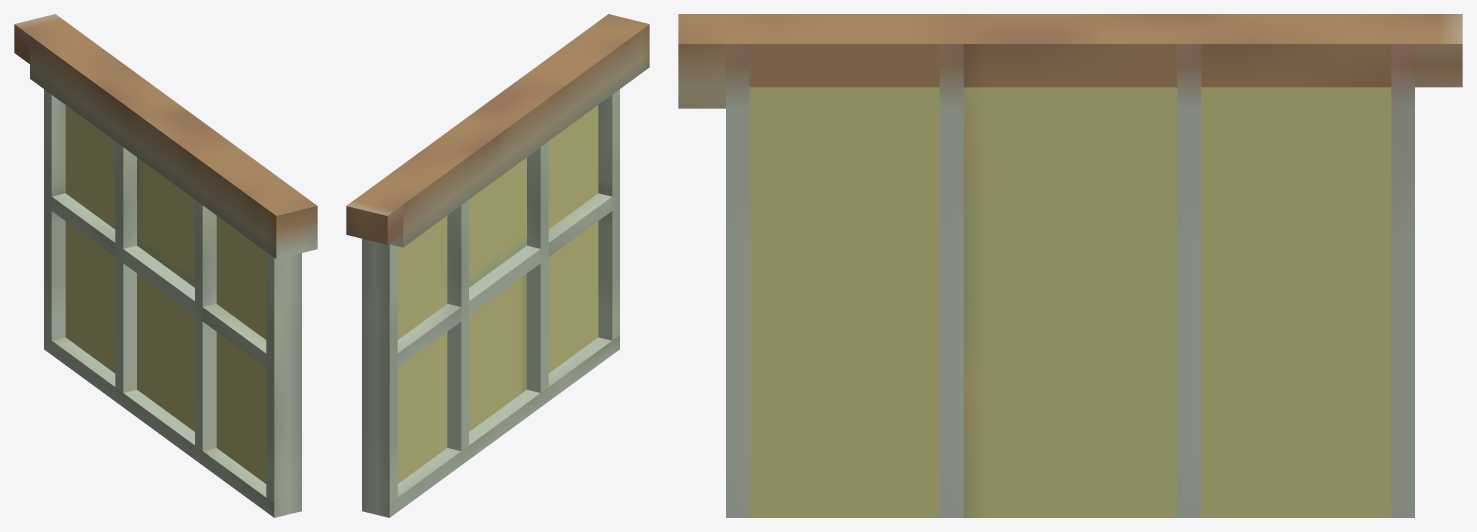
The model's file is WindowFrame4PaneWiderOutside_00.fbx.
3 renders of one model, left to right at view 1: azimuth 30°, elevation 25°; view 2: azimuth 150°, elevation 25°; view 3: azimuth 270°, elevation 25°, orthographic. The views are drawn at different scales.
Parts seen in each view (by area): view 1: WindowFrame4PaneWiderOutside_00; view 2: WindowFrame4PaneWiderOutside_00; view 3: WindowFrame4PaneWiderOutside_00.
Part boxes in pixels (x1,y1,x2,y2): WindowFrame4PaneWiderOutside_00: (14, 14, 317, 517); WindowFrame4PaneWiderOutside_00: (346, 14, 649, 517); WindowFrame4PaneWiderOutside_00: (678, 14, 1462, 517).
Size of the model in its own units: 15 by 165 by 110.
2 materials, 2 textured.
